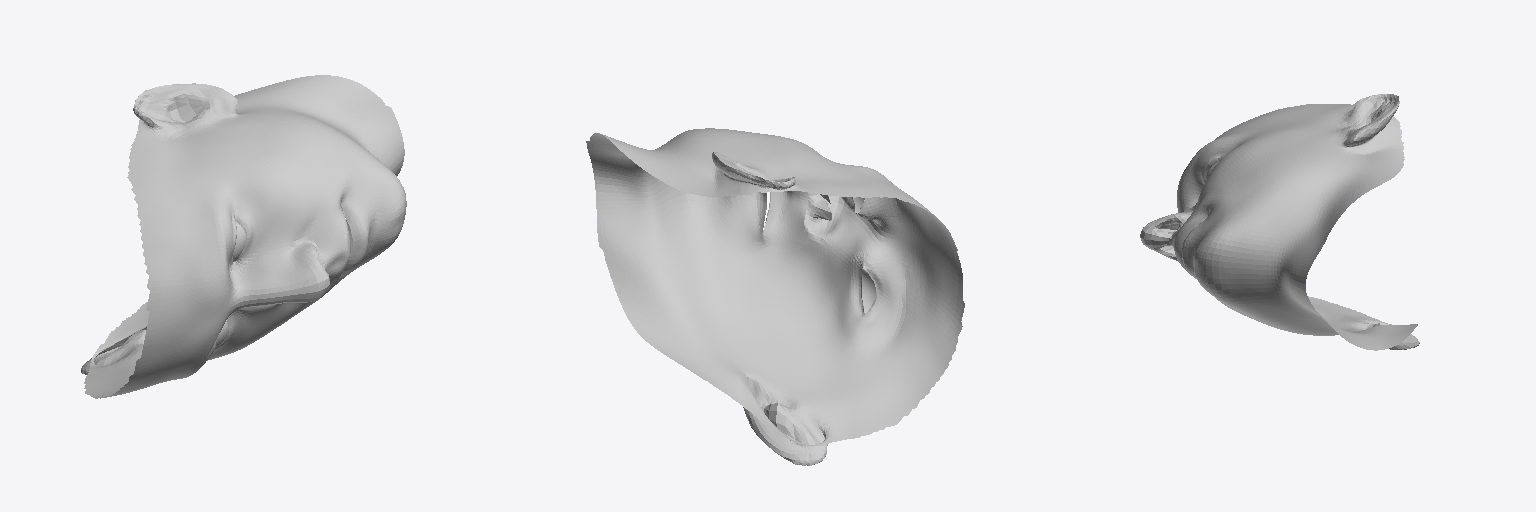
File: 49crop_0.obj
The picture shows the model from 3 angles: view 1: azimuth 30°, elevation 25°; view 2: azimuth 150°, elevation 25°; view 3: azimuth 270°, elevation 25°; orthographic projection.
Bounding box in the file's own units: 50.68 × 40.55 × 37.91.